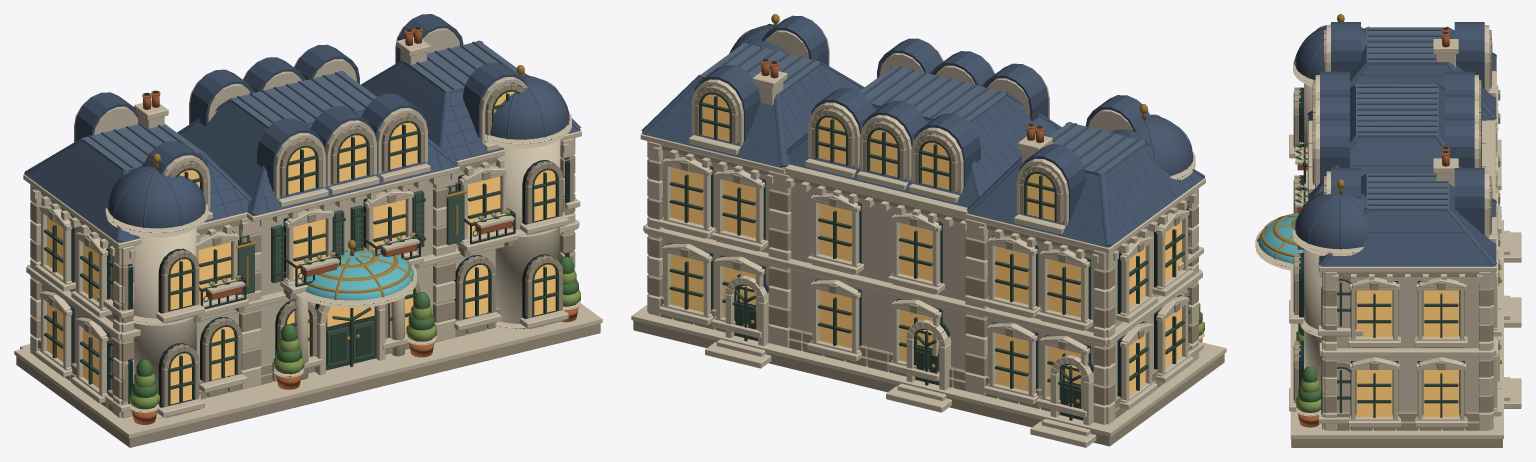
The picture shows the model from 3 angles, left to right: view 1: azimuth 30°, elevation 25°; view 2: azimuth 150°, elevation 25°; view 3: azimuth 270°, elevation 25°; orthographic projection. The views are drawn at different scales.
Parts seen in each view (by area): view 1: classic_skyscraper_2_geometry, classic_skyscraper_2_geometry ceramic; view 2: classic_skyscraper_2_geometry, classic_skyscraper_2_geometry ceramic; view 3: classic_skyscraper_2_geometry, classic_skyscraper_2_geometry ceramic.
Part boxes in pixels (x1,y1,x2,y2): classic_skyscraper_2_geometry: (14,20,602,447); classic_skyscraper_2_geometry ceramic: (24,14,580,242); classic_skyscraper_2_geometry: (631,14,1226,447); classic_skyscraper_2_geometry ceramic: (641,15,1204,247); classic_skyscraper_2_geometry: (1255,14,1521,447); classic_skyscraper_2_geometry ceramic: (1294,22,1496,266).
Size of the model in its own units: 1.95 by 1.06 by 1.02.
